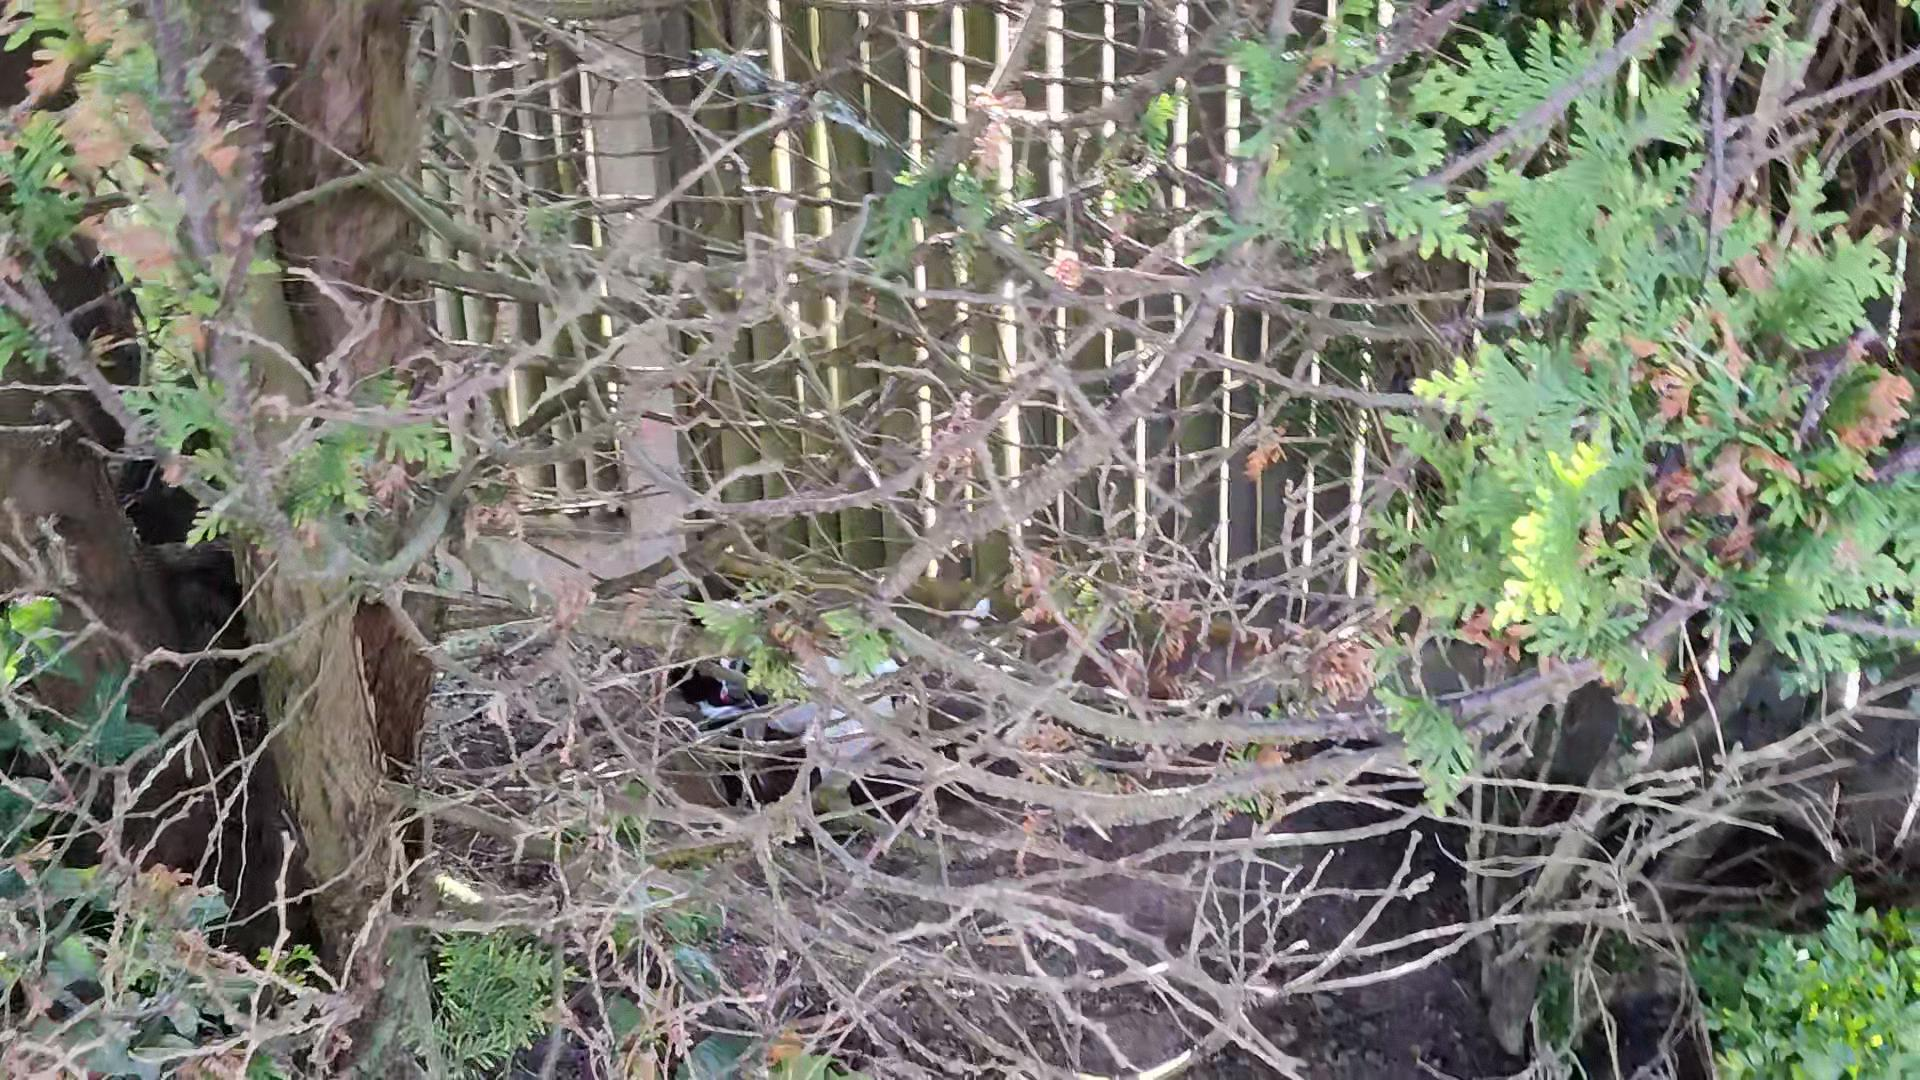Dog: (659, 582, 997, 840)
